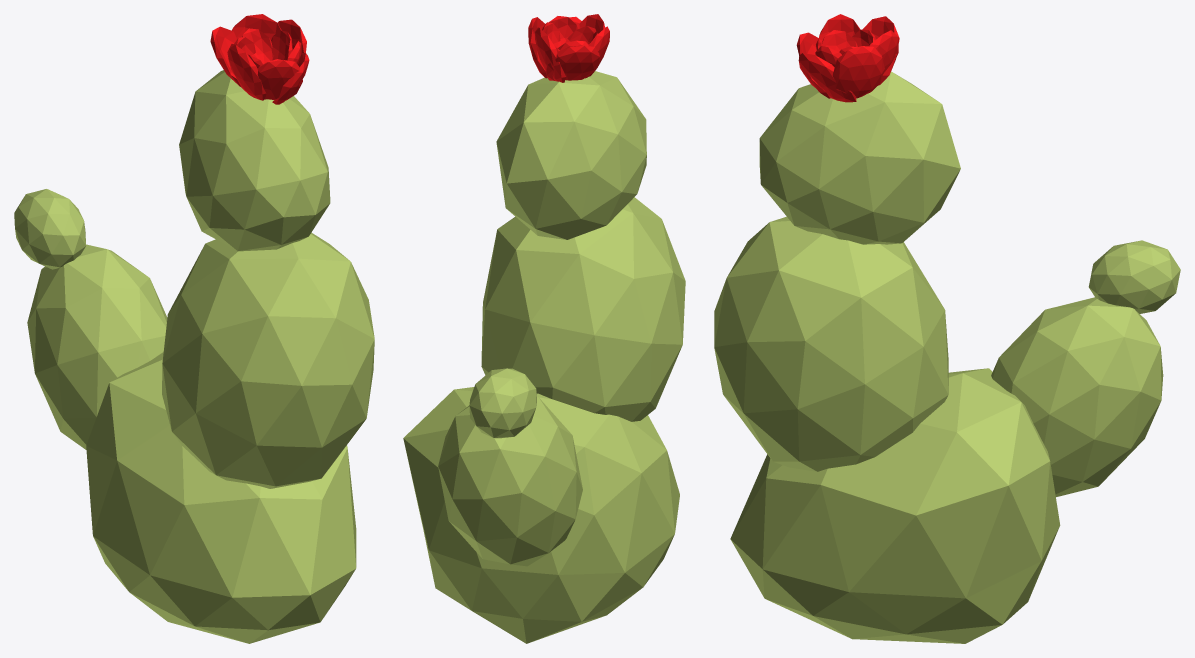
The model's file is Cactus_V05.fbx.
3 renders of one model, left to right at view 1: azimuth 30°, elevation 25°; view 2: azimuth 150°, elevation 25°; view 3: azimuth 270°, elevation 25°, orthographic. The views are drawn at different scales.
Parts seen in each view (by area): view 1: Cactus_V05; view 2: Cactus_V05; view 3: Cactus_V05.
Part boxes in pixels (box(x1,y1,x2,y2)): Cactus_V05: box(14, 14, 374, 643); Cactus_V05: box(403, 14, 685, 643); Cactus_V05: box(714, 14, 1180, 643).
Bounding box in the file's own units: 39.18 × 101 × 70.49.
